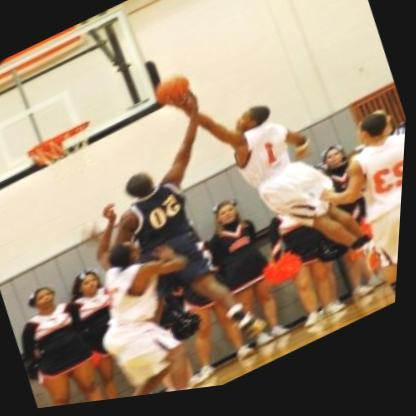basketball: (149, 68, 197, 113)
